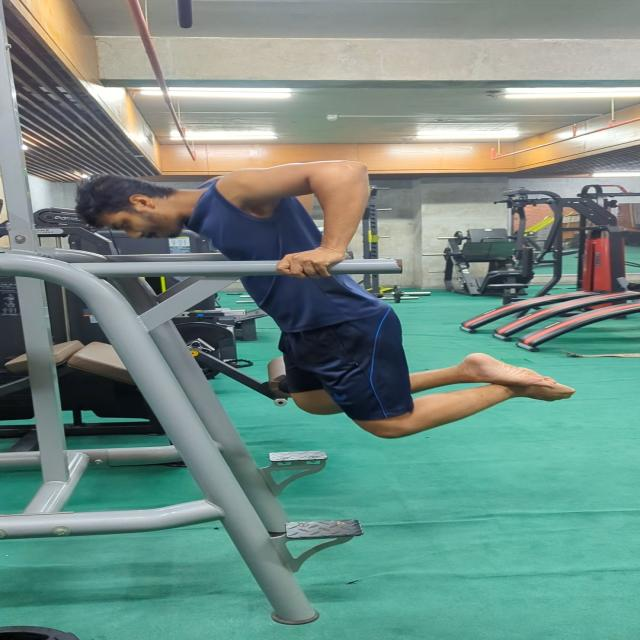Normal_Dips: (74, 152, 578, 446)
